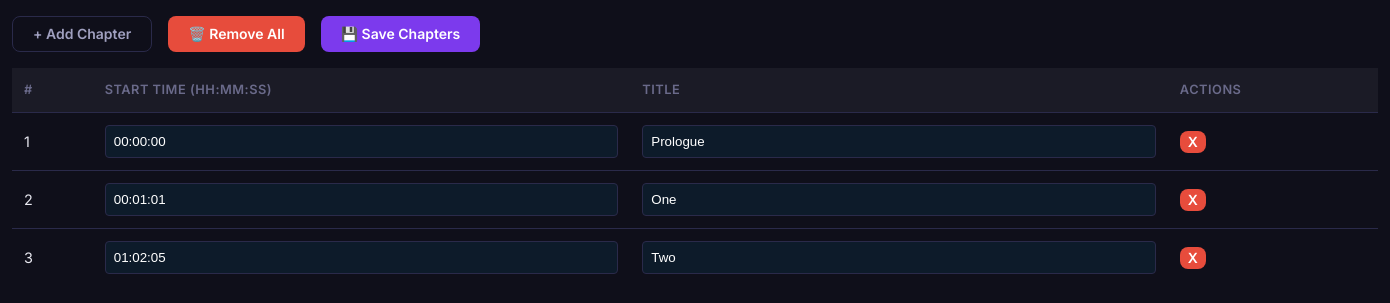
Test case: ChapterEditor › removes one row without disturbing the others
Click the 2nd button "X" at (1193, 200), box [1180,189,1206,211]
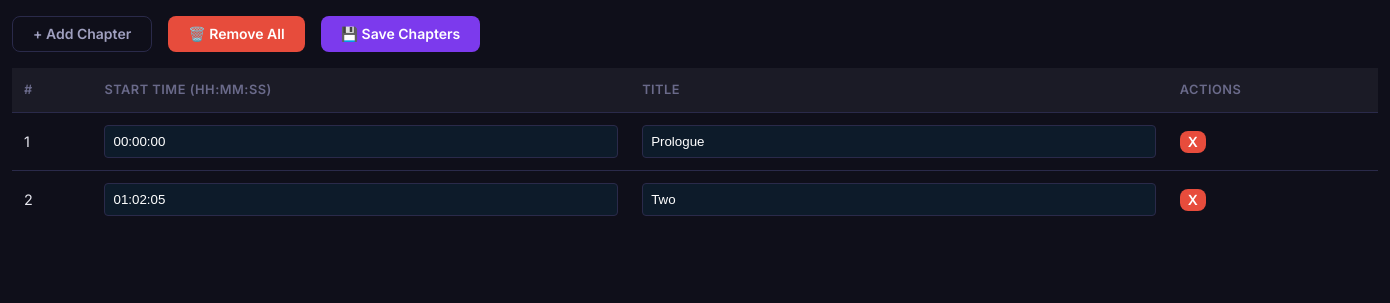
Expected: the 2nd field holds "Prologue", [642,126,1156,158]
Now the number of rows is 3, box [12,68,1378,113]; [12,113,1378,171]; [12,171,1378,228]
Now the 4th field holds "Two", box [642,184,1156,216]
